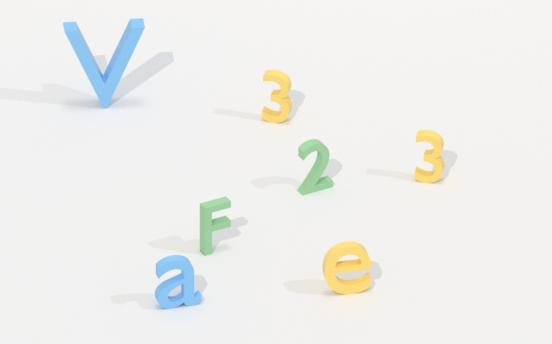2: (294, 137, 339, 196)
3: (409, 126, 450, 188), (260, 68, 294, 128)
F: (195, 192, 237, 261)
a: (153, 252, 204, 309)
e: (323, 238, 374, 297)
v: (60, 16, 150, 112)
